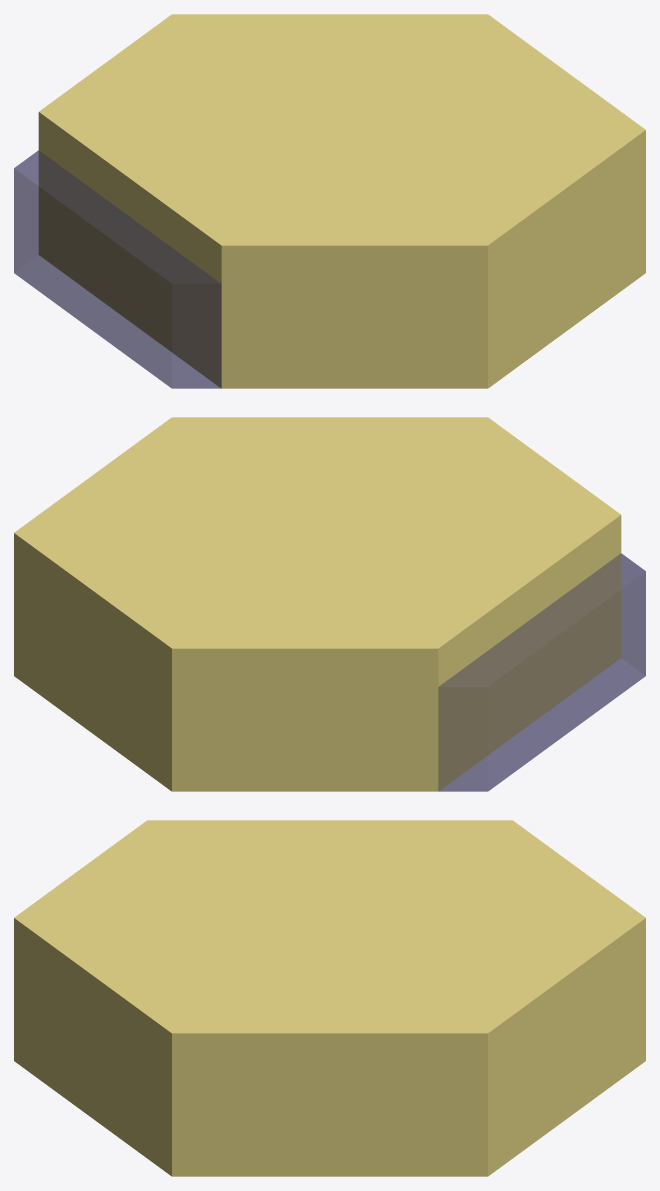
File: HexCell_Beach_Connect_5.glb
3 renders of one model, top to bottom at view 1: azimuth 30°, elevation 25°; view 2: azimuth 150°, elevation 25°; view 3: azimuth 270°, elevation 25°, orthographic.
Visible parts, largest first — view 1: HexCell_Beach_Connect_5; view 2: HexCell_Beach_Connect_5; view 3: HexCell_Beach_Connect_5.
Part boxes in pixels (left/top/right/bottom): HexCell_Beach_Connect_5: left=14, top=14, right=645, bottom=388; HexCell_Beach_Connect_5: left=14, top=417, right=645, bottom=791; HexCell_Beach_Connect_5: left=14, top=820, right=645, bottom=1176.
Size of the model in its own units: 1.73 by 0.5 by 2.
